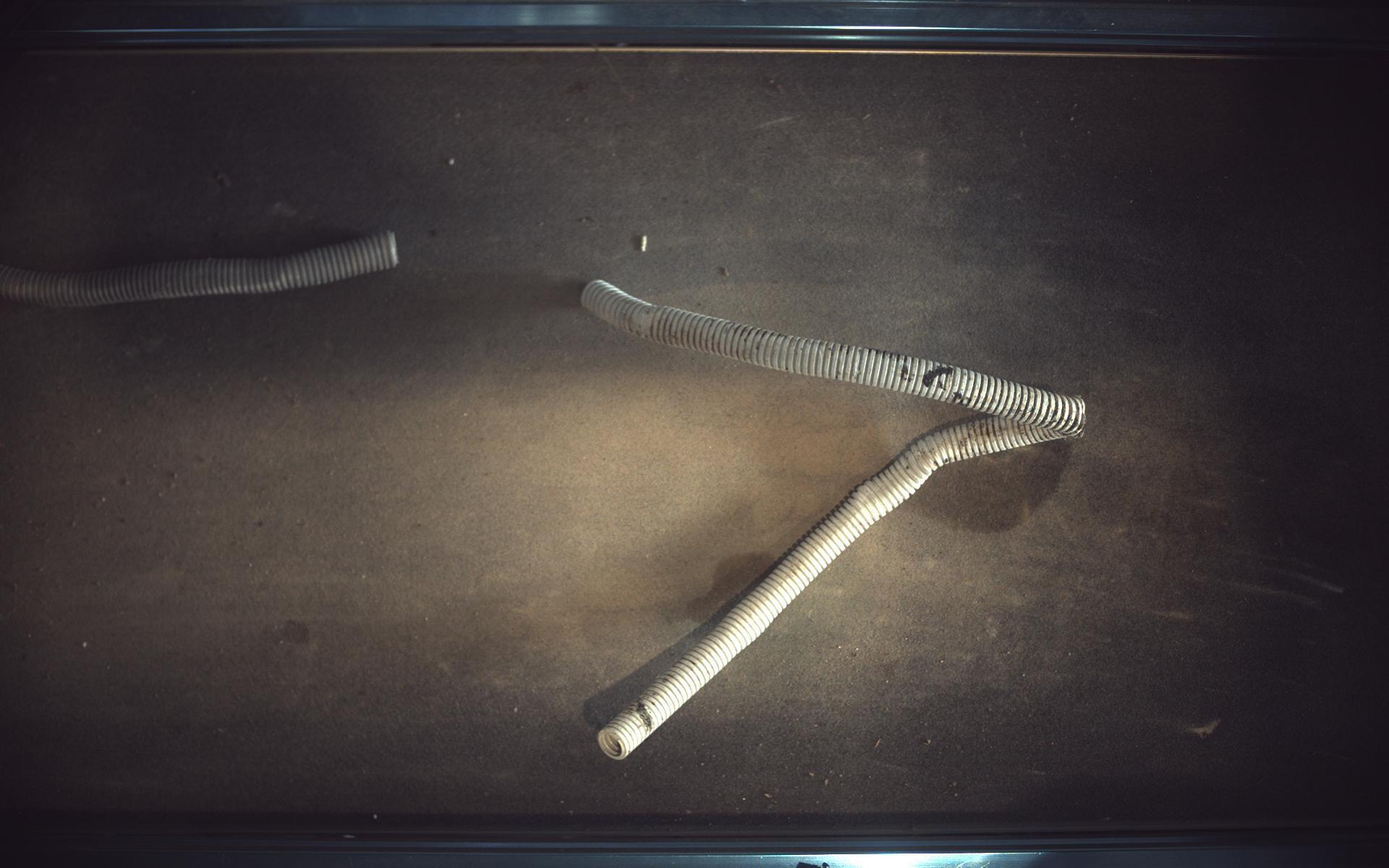pipes: (582, 279, 1088, 761), (1, 230, 398, 307)
